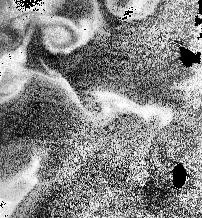AE: (44, 17, 82, 53)
